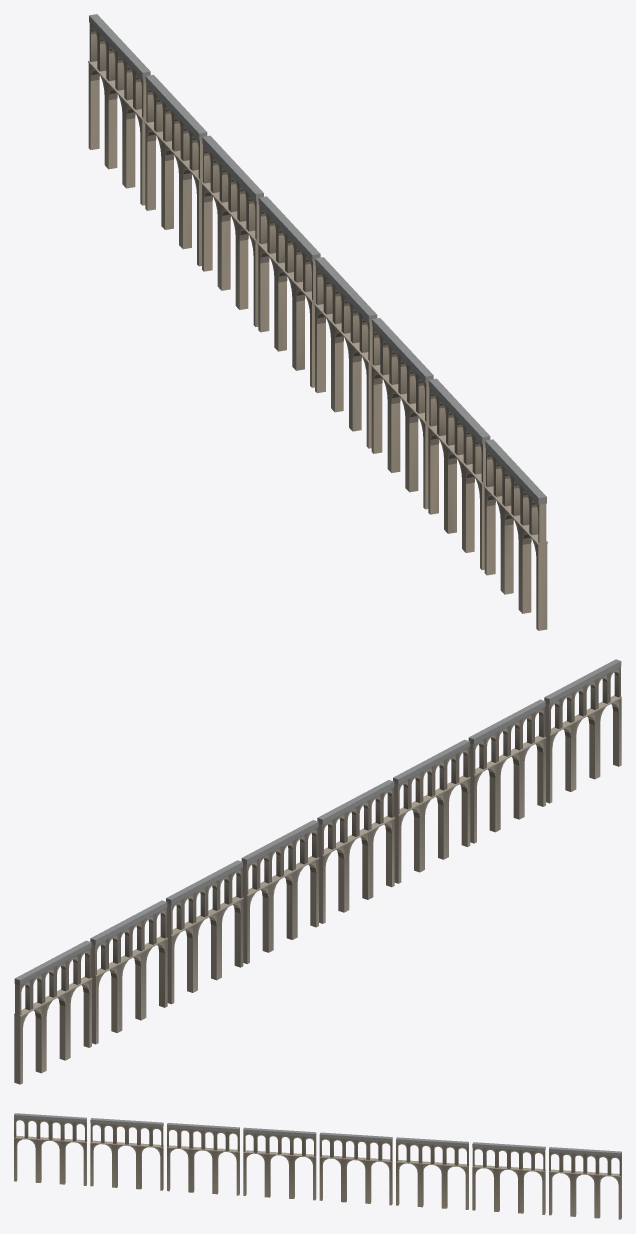
File: aqueduct.glb
The picture shows the model from 3 angles, top to bottom: view 1: azimuth 30°, elevation 25°; view 2: azimuth 150°, elevation 25°; view 3: azimuth 270°, elevation 25°; orthographic projection. The views are drawn at different scales.
Visible parts, largest first — view 1: mass_aqueduct_40.001, mass_aqueduct_40.003, mass_aqueduct_40.008, mass_aqueduct_40.006, mass_aqueduct_40.005, mass_aqueduct_40.004, mass_aqueduct_40.007, mass_aqueduct_40.002; view 2: mass_aqueduct_40.008, mass_aqueduct_40.006, mass_aqueduct_40.003, mass_aqueduct_40.005, mass_aqueduct_40.001, mass_aqueduct_40.002, mass_aqueduct_40.004, mass_aqueduct_40.007; view 3: mass_aqueduct_40.008, mass_aqueduct_40.001, mass_aqueduct_40.006, mass_aqueduct_40.003, mass_aqueduct_40.005, mass_aqueduct_40.004, mass_aqueduct_40.002, mass_aqueduct_40.007.
Part boxes in pixels (<box>): mass_aqueduct_40.001: <box>484,439,547,630</box>; mass_aqueduct_40.003: <box>371,318,433,509</box>; mass_aqueduct_40.008: <box>88,14,150,205</box>; mass_aqueduct_40.006: <box>201,135,263,326</box>; mass_aqueduct_40.005: <box>257,196,320,387</box>; mass_aqueduct_40.004: <box>314,257,377,448</box>; mass_aqueduct_40.007: <box>144,74,207,266</box>; mass_aqueduct_40.002: <box>427,378,490,569</box>; mass_aqueduct_40.008: <box>14,940,92,1084</box>; mass_aqueduct_40.006: <box>166,860,243,1004</box>; mass_aqueduct_40.003: <box>393,739,470,883</box>; mass_aqueduct_40.005: <box>241,820,319,963</box>; mass_aqueduct_40.001: <box>544,659,621,803</box>; mass_aqueduct_40.002: <box>468,699,546,843</box>; mass_aqueduct_40.004: <box>317,780,394,923</box>; mass_aqueduct_40.007: <box>90,900,167,1044</box>; mass_aqueduct_40.008: <box>549,1147,621,1219</box>; mass_aqueduct_40.001: <box>14,1113,87,1185</box>; mass_aqueduct_40.006: <box>396,1137,469,1209</box>; mass_aqueduct_40.003: <box>167,1123,239,1195</box>; mass_aqueduct_40.005: <box>319,1132,392,1205</box>; mass_aqueduct_40.004: <box>243,1127,316,1200</box>; mass_aqueduct_40.002: <box>90,1118,163,1190</box>; mass_aqueduct_40.007: <box>472,1142,545,1214</box>.
Bounding box in the file's own units: 52.64 × 40 × 332.
